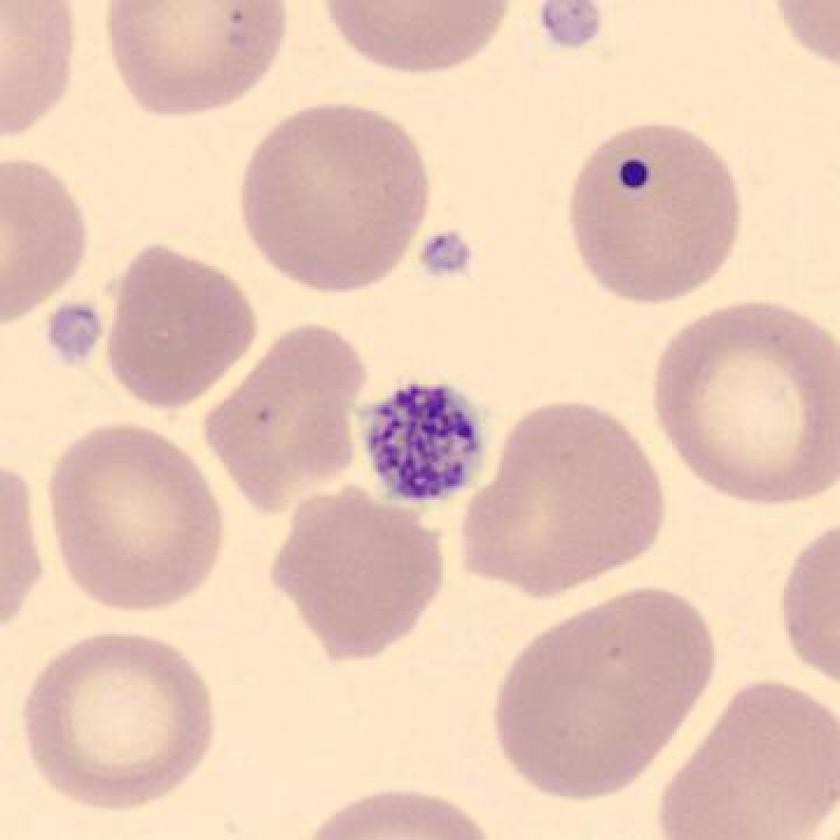platelets: (349, 367, 505, 522), (34, 299, 108, 383), (414, 214, 489, 290), (533, 1, 610, 61)
